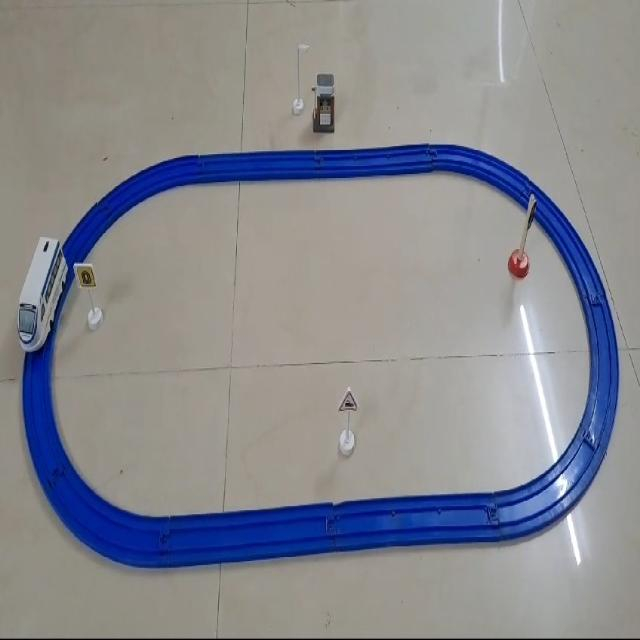bus: (17, 234, 68, 352)
